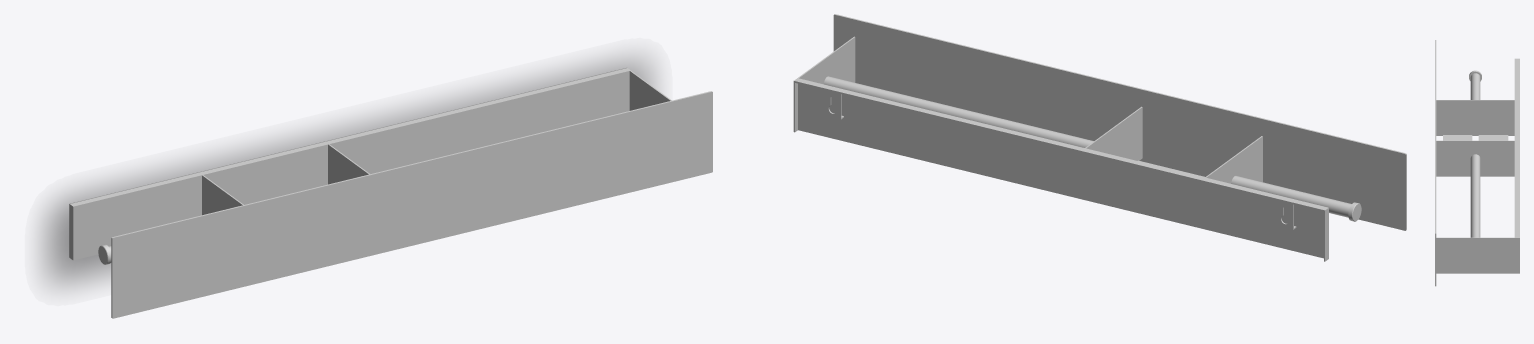
The model's file is skyline-trio.363ea76e30.ar.glb.
3 views of the same model, side by side, from view 1: azimuth 30°, elevation 25°; view 2: azimuth 150°, elevation 25°; view 3: azimuth 270°, elevation 25° (orthographic). The views are drawn at different scales.
Parts seen in each view (by area): view 1: NAUO1, object 2; view 2: NAUO1; view 3: NAUO1.
Part boxes in pixels (x1,y1,x2,y2): NAUO1: (69,67,712,318); object 2: (41,57,655,286); NAUO1: (793,14,1406,261); NAUO1: (1435,40,1519,286).
Bounding box in the file's own units: 0.78 × 0.17 × 0.13.
Materials: 2 (1 with a texture image).
